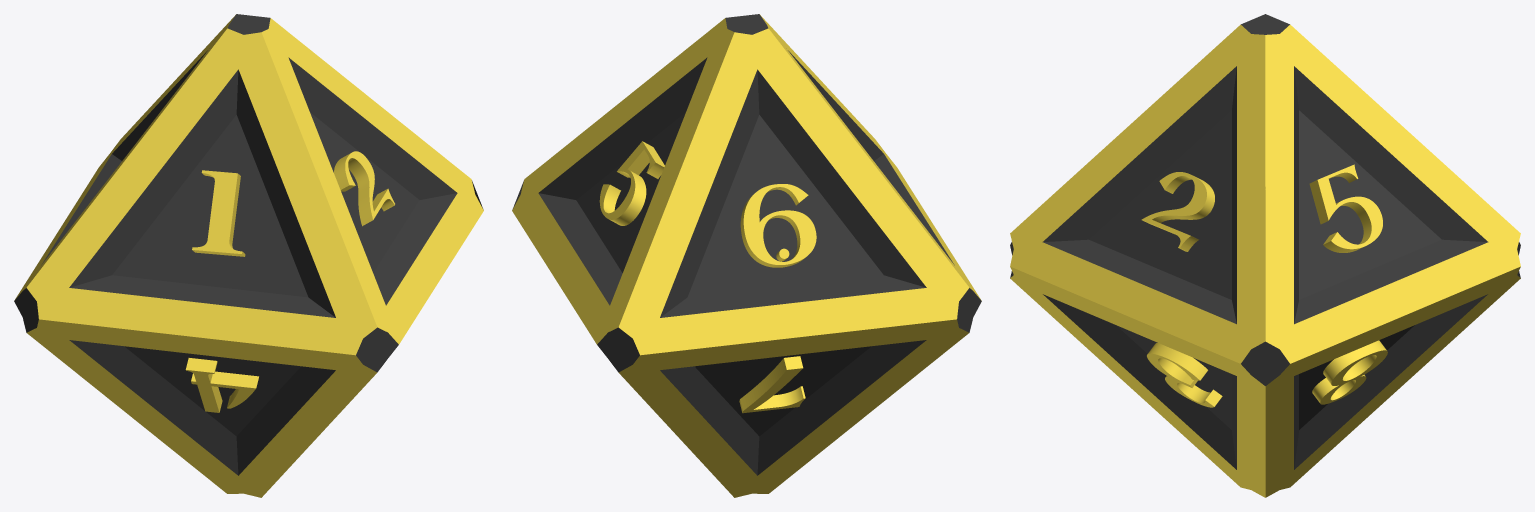
3 views of the same model, side by side, from view 1: azimuth 30°, elevation 25°; view 2: azimuth 150°, elevation 25°; view 3: azimuth 270°, elevation 25° (orthographic).
Visible parts, largest first — view 1: d8, d8_face_1, d8_face_4, d8_face_2, d8_face_6; view 2: d8, d8_face_6, d8_face_7, d8_face_5, d8_face_1; view 3: d8, d8_face_2, d8_face_5, d8_face_8, d8_face_3.
Part boxes in pixels (x1,y1,x2,y2): d8: (14,14,483,475); d8_face_1: (26,28,377,355); d8_face_4: (27,319,377,497); d8_face_2: (261,18,483,344); d8_face_6: (14,15,235,300); d8: (512,14,981,475); d8_face_6: (618,28,969,355); d8_face_7: (618,319,968,497); d8_face_5: (512,18,734,344); d8_face_1: (760,15,981,300); d8: (1010,14,1520,469); d8_face_2: (1010,24,1265,363); d8_face_5: (1265,24,1520,363); d8_face_8: (1265,266,1520,497); d8_face_3: (1010,266,1265,497).
Size of the model in its own units: 1.82 by 1.82 by 1.82.
